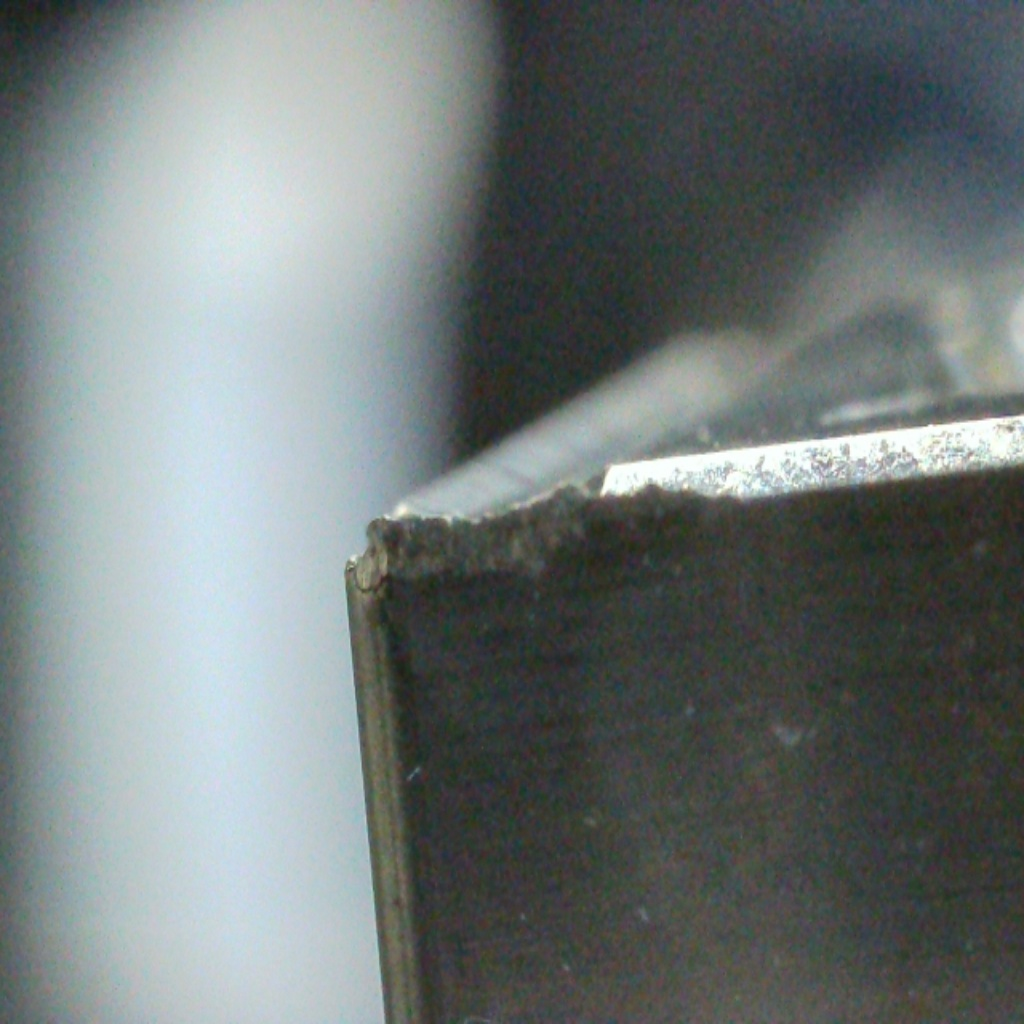flank_wear: (341, 551, 412, 603)
